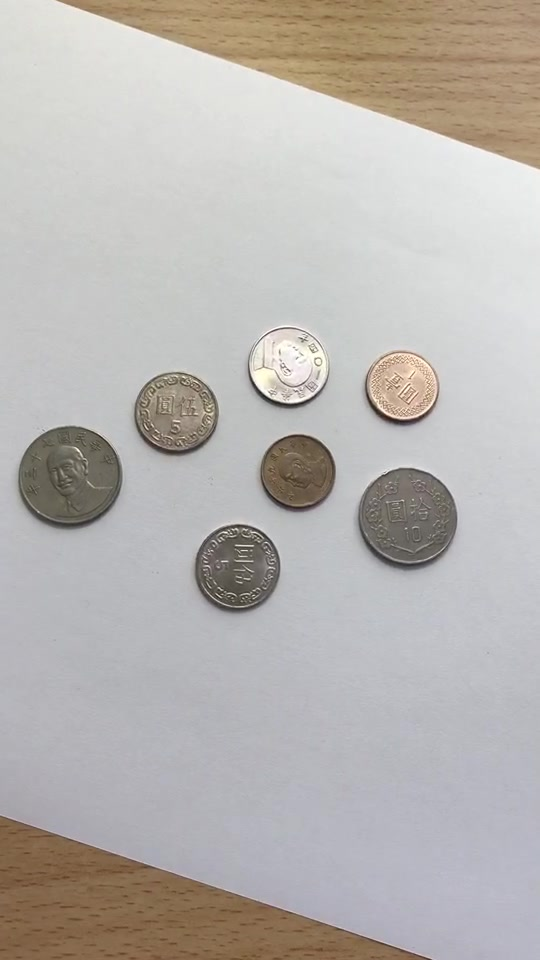1 dallar: (7, 419, 132, 540), (345, 452, 470, 573), (249, 422, 343, 519), (355, 339, 449, 436)
5 dallar: (238, 316, 341, 415), (127, 360, 230, 459), (187, 520, 290, 619)
